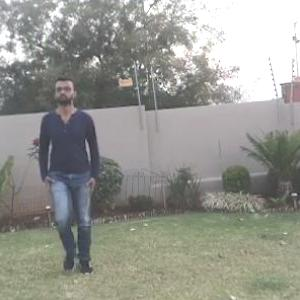follow: (38, 67, 116, 283)
